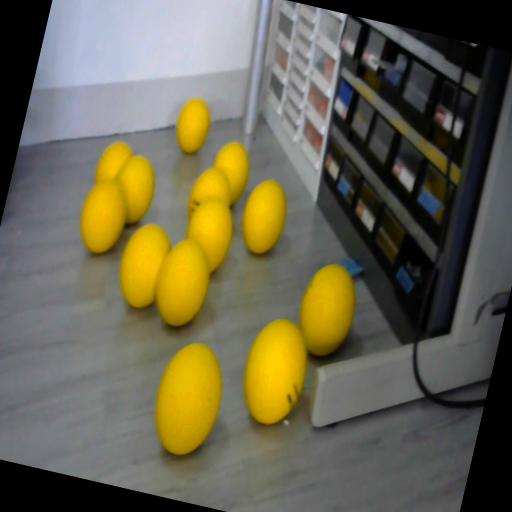FUEL: (144, 334, 232, 460), (233, 312, 317, 430), (290, 258, 364, 362), (112, 218, 174, 312), (178, 192, 240, 276), (73, 174, 134, 258), (234, 176, 294, 258), (206, 138, 256, 208), (172, 95, 214, 156), (93, 137, 136, 191)
